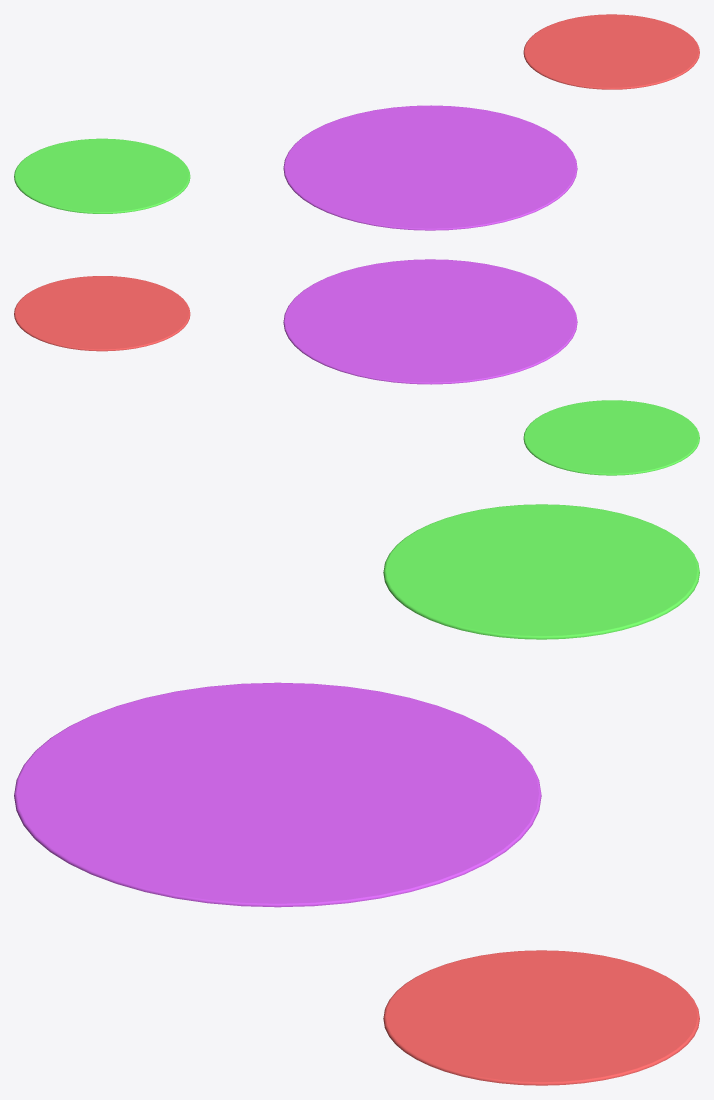
The picture shows the model from 3 angles, top to bottom: view 1: azimuth 30°, elevation 25°; view 2: azimuth 150°, elevation 25°; view 3: azimuth 270°, elevation 25°; orthographic projection. The views are drawn at different scales.
Parts seen in each view (by area): view 1: #04_Obj_Circle_001, #04_Obj_Circle_003, #04_Obj_Circle_002; view 2: #04_Obj_Circle_001, #04_Obj_Circle_002, #04_Obj_Circle_003; view 3: #04_Obj_Circle_001, #04_Obj_Circle_003, #04_Obj_Circle_002.
Boxes of the visible parts, x1=… form: #04_Obj_Circle_001: x1=283, y1=105, x2=577, y2=230; #04_Obj_Circle_003: x1=523, y1=14, x2=699, y2=89; #04_Obj_Circle_002: x1=14, y1=138, x2=190, y2=213; #04_Obj_Circle_001: x1=283, y1=259, x2=577, y2=384; #04_Obj_Circle_002: x1=523, y1=400, x2=699, y2=475; #04_Obj_Circle_003: x1=14, y1=276, x2=190, y2=351; #04_Obj_Circle_001: x1=14, y1=682, x2=541, y2=907; #04_Obj_Circle_003: x1=383, y1=950, x2=699, y2=1085; #04_Obj_Circle_002: x1=383, y1=504, x2=699, y2=639.
Bounding box in the file's own units: 5200 × 2600 × 10.
